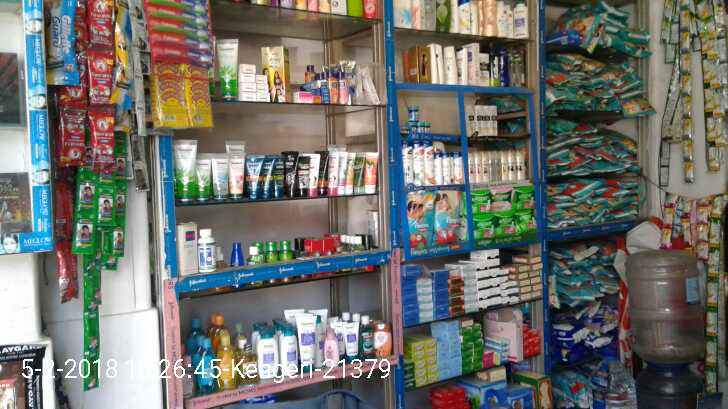beauty: (423, 142, 435, 186), (411, 143, 423, 184), (483, 104, 497, 138), (516, 149, 528, 179), (474, 151, 483, 184), (474, 105, 483, 138), (466, 150, 474, 183), (481, 149, 489, 182), (508, 151, 517, 180), (443, 152, 451, 184), (500, 149, 508, 180), (434, 153, 442, 183), (466, 111, 475, 136)
pharmacy: (433, 190, 465, 244), (407, 193, 435, 246), (459, 188, 491, 214), (512, 186, 535, 210), (489, 185, 511, 210), (471, 214, 492, 239), (513, 211, 535, 234), (493, 214, 515, 237), (407, 104, 418, 120), (423, 121, 432, 135), (416, 121, 424, 134)
